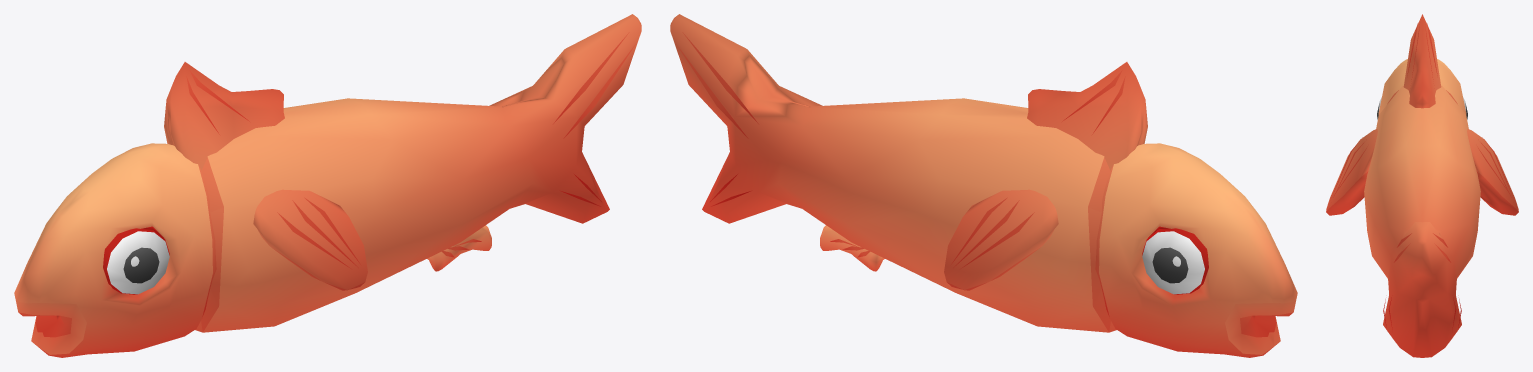
The model's file is fish_002.glb.
3 renders of one model, left to right at view 1: azimuth 30°, elevation 25°; view 2: azimuth 150°, elevation 25°; view 3: azimuth 270°, elevation 25°, orthographic. The views are drawn at different scales.
Parts seen in each view (by area): view 1: fish.002; view 2: fish.002; view 3: fish.002.
Boxes of the visible parts, <box> form: fish.002: <box>14,14,641,357</box>; fish.002: <box>670,14,1297,357</box>; fish.002: <box>1326,14,1518,357</box>.
Bounding box in the file's own units: 1.05 × 0.4486 × 0.3685.
Materials: 1 (1 with a texture image).
